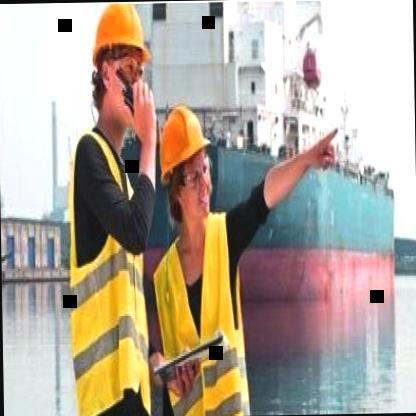helmet: (154, 88, 218, 242), (83, 1, 154, 126)
